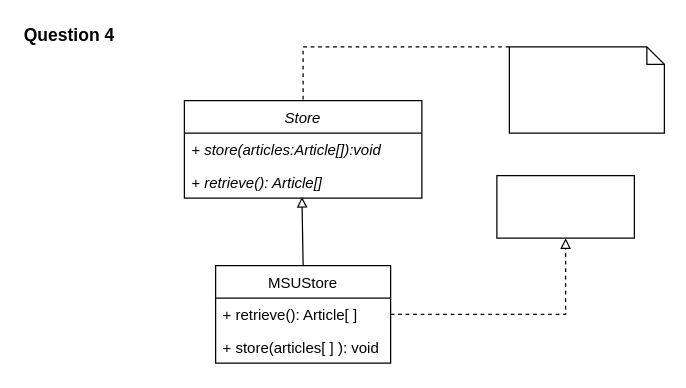
Some shapes in this 686 by 388 pixel diagram are drawn without their labels. The shapes that lost their labels are listed below. From the top down, each one's centre as x and y in pixels, then its label:
At point (586, 89): "Italics reference abstract classes.".
At point (565, 206): "«interface» Accounting".
